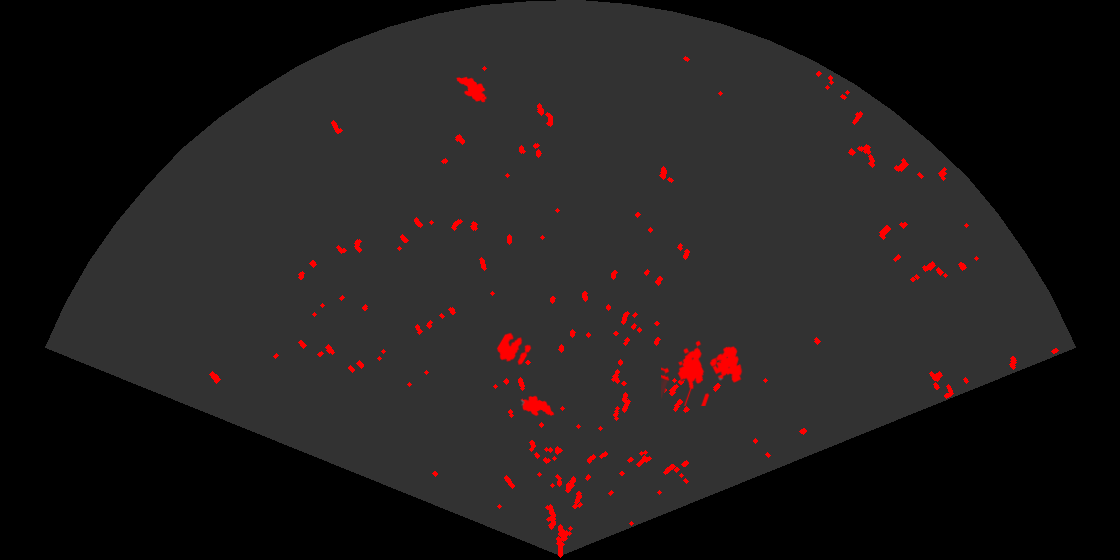AUV: (454, 75, 488, 104), (519, 394, 556, 418)
ball: (495, 331, 533, 367)
cage: (661, 339, 744, 406)
